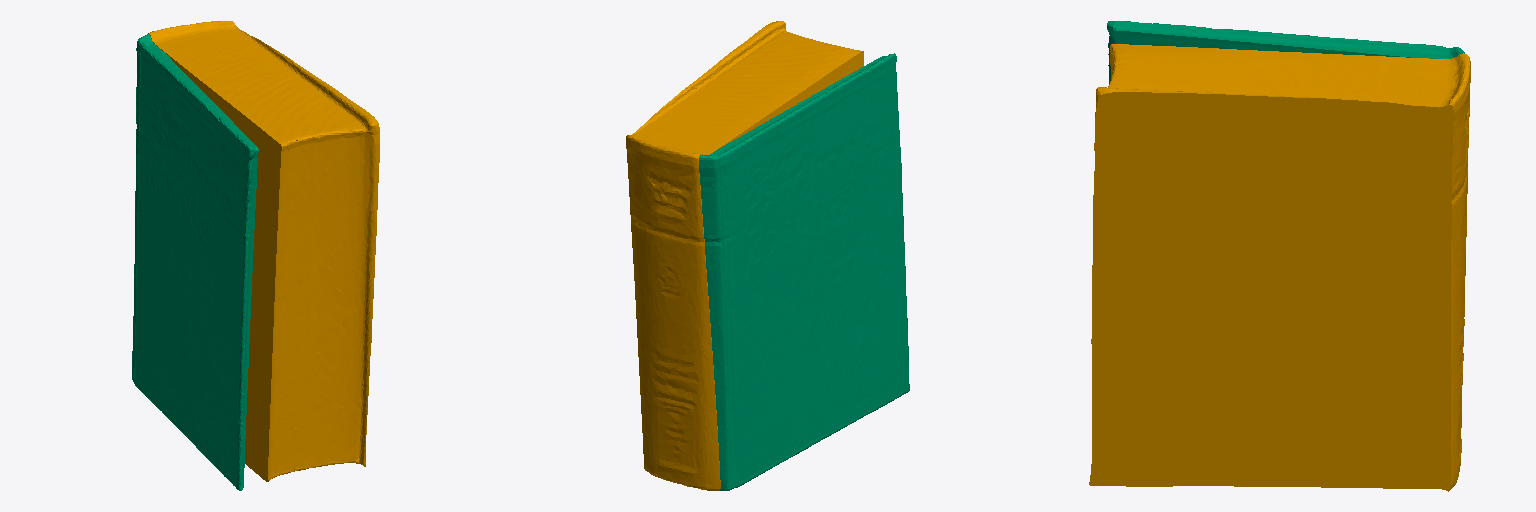
robot.urdf — book:
<?xml version="1.0"?>
<robot name="book">
  <link name ="rb0">
    <visual>
      <origin xyz='0.124599 -0.032295 -0.139641' rpy='-0.381872 -1.434270 -1.253276'/>
      <geometry>
        <mesh filename="meshes/book_bottom.obj"  scale="1 1 1" />
      </geometry>
    </visual>
    <collision>
      <origin xyz='0.124599 -0.032295 -0.139641' rpy='-0.381872 -1.434270 -1.253276'/>
      <geometry>
        <mesh filename="meshes/book_bottom.obj"  scale="1 1 1" />
      </geometry>
    </collision>
  </link>
  <joint name="j_0_1" type="revolute">
    <parent link="rb0"/>
    <child link="rb1"/>
    <origin xyz="-0.0178475108059 0.0830259596699 -0.104886973761" rpy="0 0 0 "/>
    <axis xyz="0.0116820855415 0.0195133306668 0.999741345951"/>
    <limit effort="30" velocity="1.0" lower="-3.1416" upper="3.1416"/>
  </joint>
  <joint name="j_0_fixed" type="fixed">
    <parent link="rb1"/>
    <child link="rb1_marker"/>
      <origin xyz="-0.0399173662991 -0.20123964127 0.00394968654589" rpy="1.59426589408 0.0318340080446 1.38128013071"/>
    <limit effort="30" velocity="1.0" lower="-3.1416" upper="3.1416"/>
  </joint>
  <link name ="rb1">
  </link>
  <link name ="rb1_marker">
    <visual>
      <origin xyz='0.104927 -0.031305 0.080058' rpy='1.601578 -0.031979 1.722571'/>
      <geometry>
        <mesh filename="meshes/book_top.obj"  scale="1 1 1" />
      </geometry>
    </visual>
    <collision>
      <origin xyz='0.104927 -0.031305 0.080058' rpy='1.601578 -0.031979 1.722571'/>
      <geometry>
        <mesh filename="meshes/book_top.obj"  scale="1 1 1" />
      </geometry>
    </collision>
  </link>
</robot>

--- What the picture shows (computed from the rendered views, not written in the file) ---
3 views of the same robot in one strip: view 1: azimuth 30°, elevation 25°; view 2: azimuth 150°, elevation 25°; view 3: azimuth 270°, elevation 25° (orthographic).
Robot: book — 3 links, 2 joints (1 revolute, 1 fixed); root link rb0; default pose: every joint at zero.
Visible links, largest first — view 1: rb0, rb1_marker; view 2: rb1_marker, rb0; view 3: rb0, rb1_marker.
Boxes of the visible links, x1,y1,x2,y2 form: rb0: (148, 21, 379, 481); rb1_marker: (132, 34, 258, 490); rb1_marker: (699, 53, 909, 490); rb0: (626, 21, 863, 490); rb0: (1089, 44, 1470, 491); rb1_marker: (1107, 21, 1464, 83).
Bounding box of the posed robot: 0.1076 × 0.2138 × 0.2538 m (x, y, z).
2 mesh visuals loaded from 2 distinct referenced files (2 OBJ).